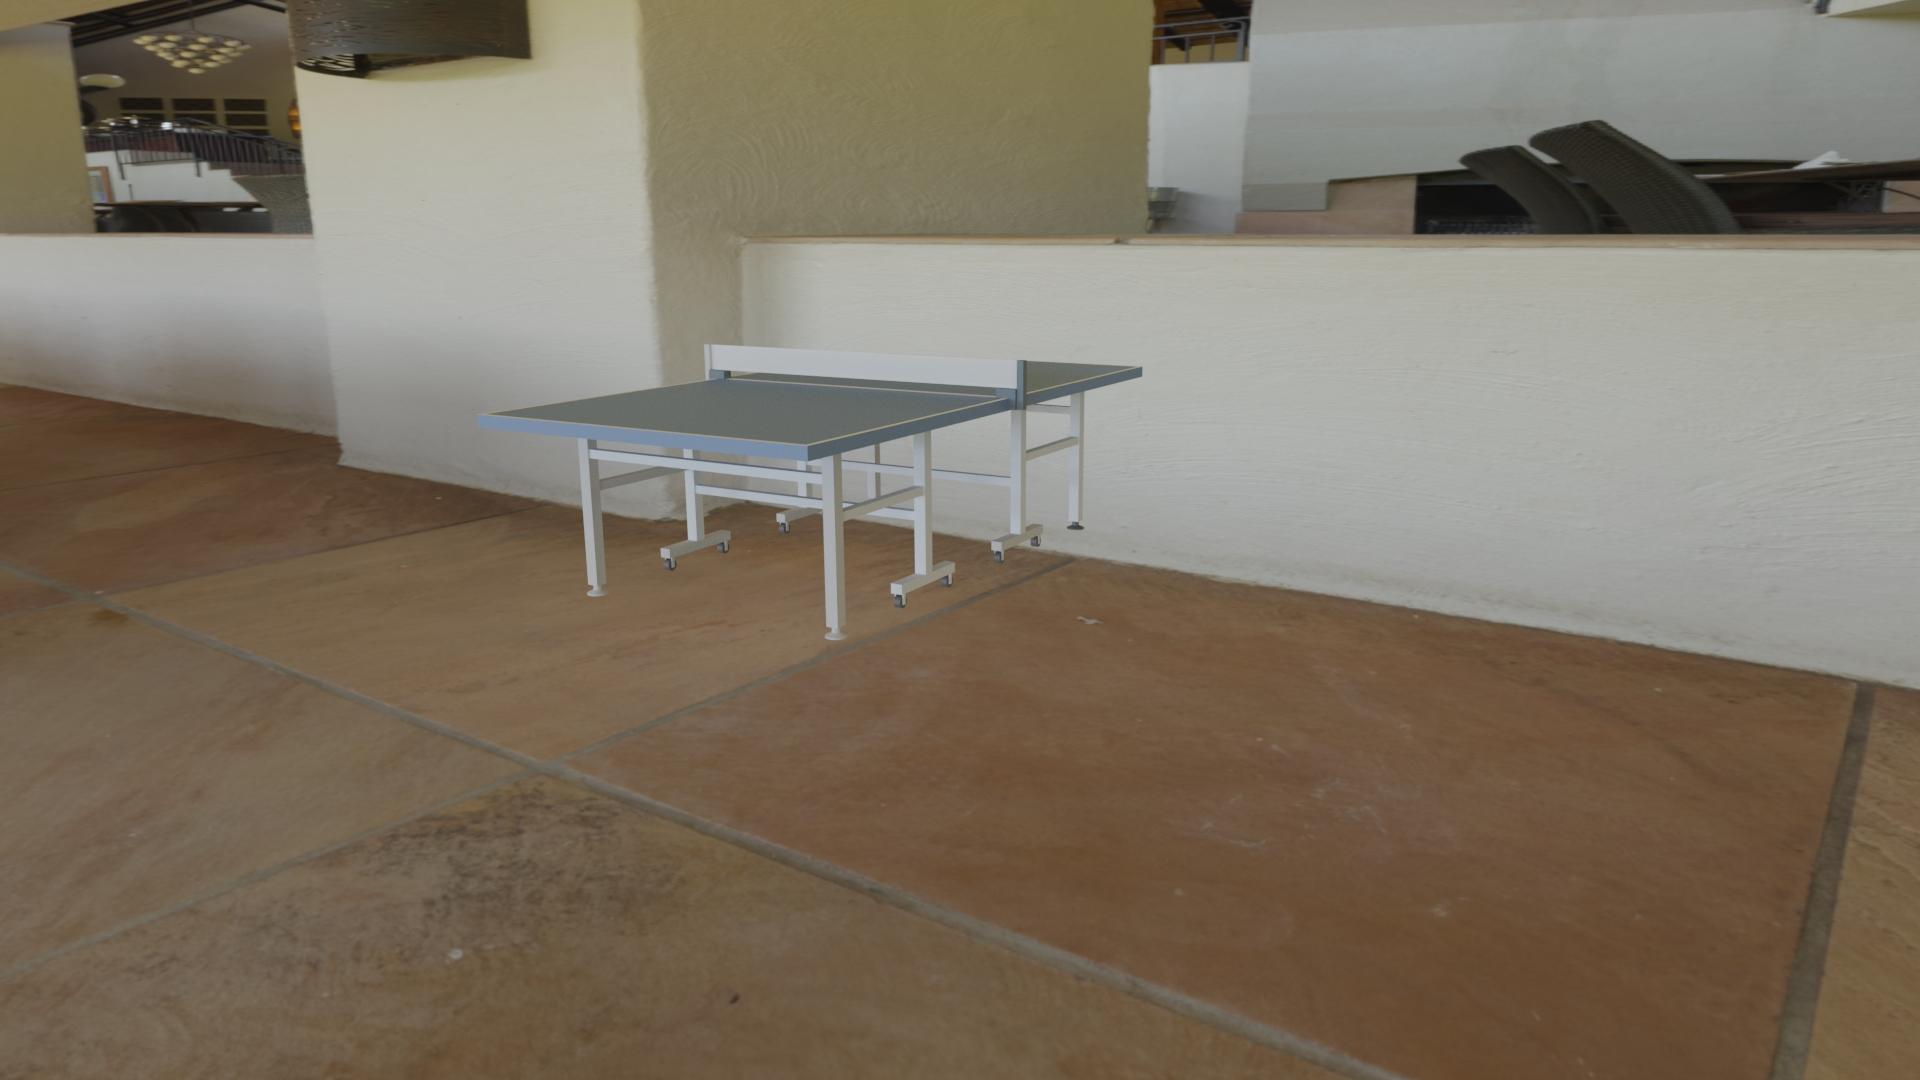table: (485, 353, 1137, 444)
